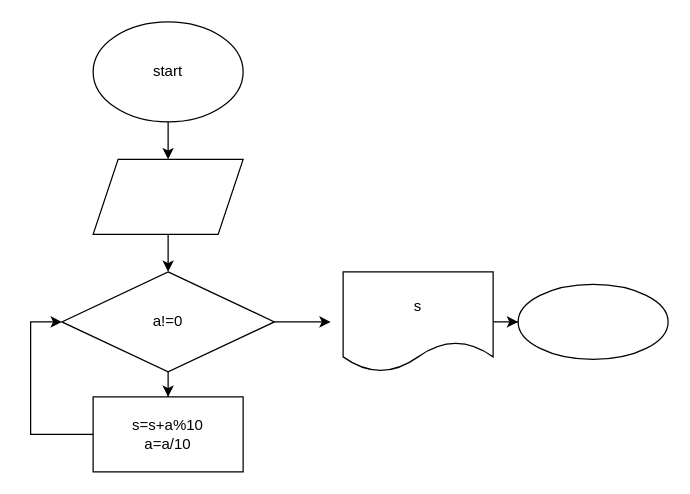
Image size: 690x494. Some labels were removed from this diagram. Here are the shapes that lost their labels. From the top down, the box of each, then its label:
(92, 158, 243, 234): a s=0
(517, 283, 668, 359): end
